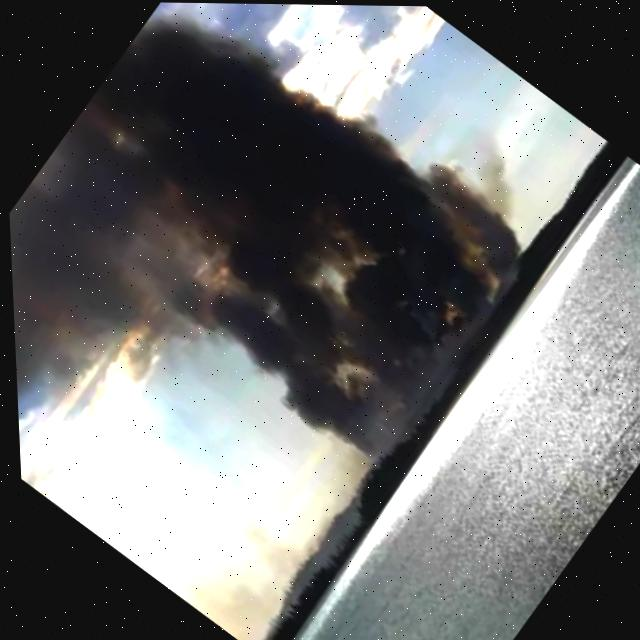Smoke: (0, 0, 547, 480)
